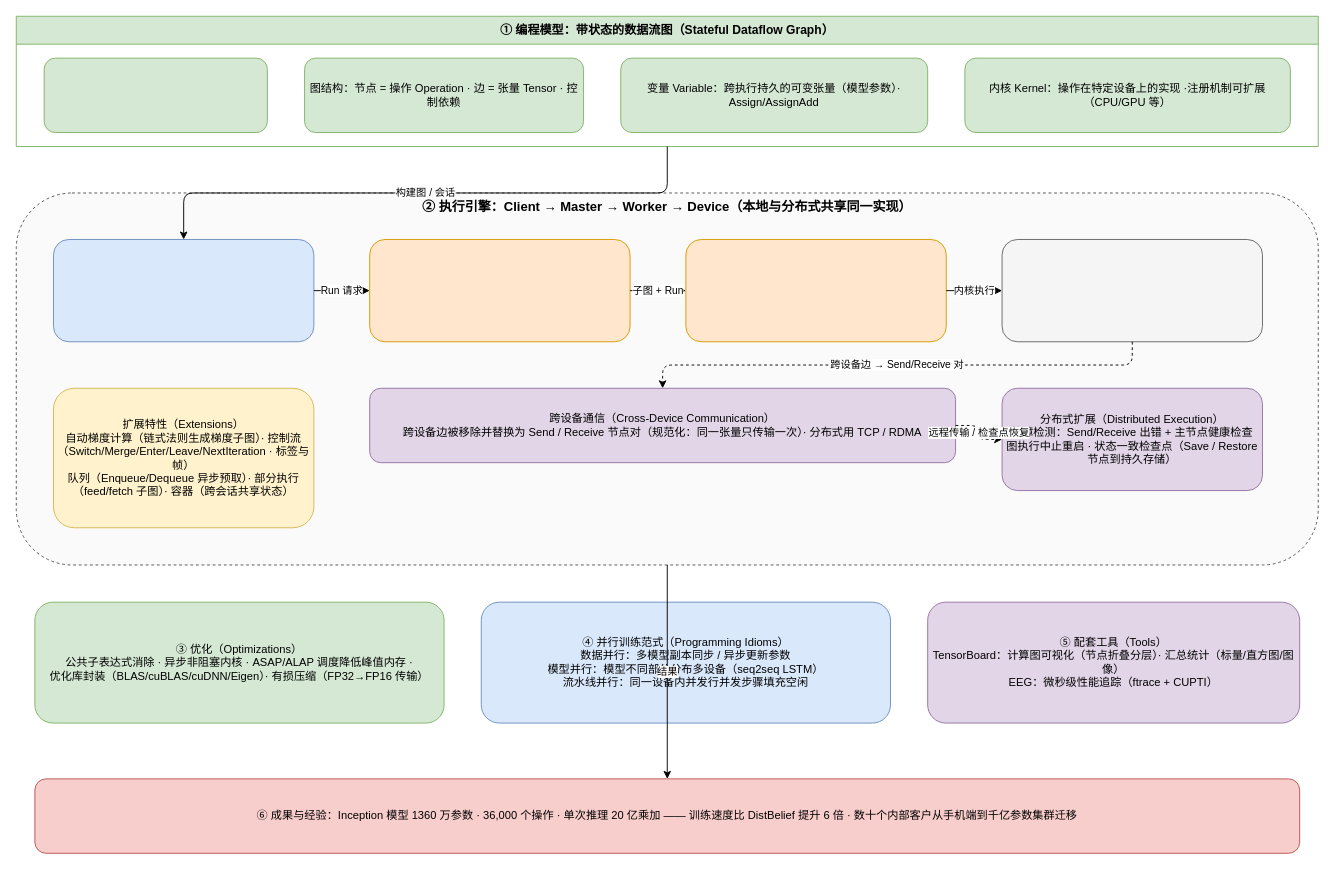
Some shapes in this 1335 by 870 pixel diagram are drawn without their labels. Each missing label, with the box of its shape:
主节点 Master 放置算法：成本模型 + 模拟执行 + 贪婪启发式 图分区（每设备一子图）· 每次执行向每个工作进程发一次 Run 请求 · 定期健康检查: (369, 239, 630, 342)
前端：Python / C++ 构建计算图: (43, 57, 267, 133)
客户端 Client（Session 接口） Extend：向图中添加节点 / 边 Run：给定输出集合求传递闭包 · feed 注入 · 可执行任意子图: (53, 239, 314, 342)
工作进程 Worker（每进程一个或多个设备） 按依赖计数执行：每个节点计数归零入就绪队列 · 调度内核执行 · 跨设备 Send/Receive 同步: (685, 239, 946, 342)
设备 Devices CPU / GPU · 管理内存分配与内核执行 设备名如 /job:worker/task:17/device:gpu:3: (1001, 239, 1262, 342)
